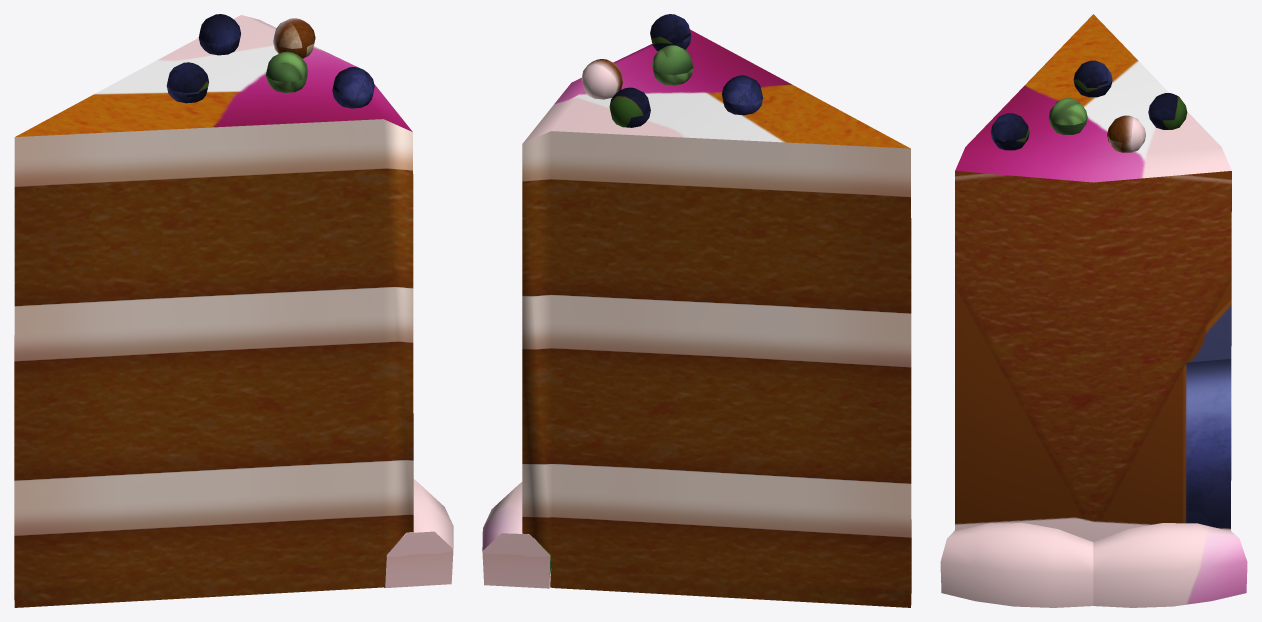
Rendered from Wedding_03_Slice_Bottom.fbx.
The picture shows the model from 3 angles, left to right: view 1: azimuth 30°, elevation 25°; view 2: azimuth 150°, elevation 25°; view 3: azimuth 270°, elevation 25°; orthographic projection. The views are drawn at different scales.
Visible parts, largest first — view 1: Wedding_03_Slice_Bottom; view 2: Wedding_03_Slice_Bottom; view 3: Wedding_03_Slice_Bottom.
Boxes of the visible parts, x1,y1,x2,y2 form: Wedding_03_Slice_Bottom: (14,14,453,607); Wedding_03_Slice_Bottom: (482,14,911,607); Wedding_03_Slice_Bottom: (940,14,1247,607).
Size of the model in its own units: 62.06 by 76.53 by 47.12.
